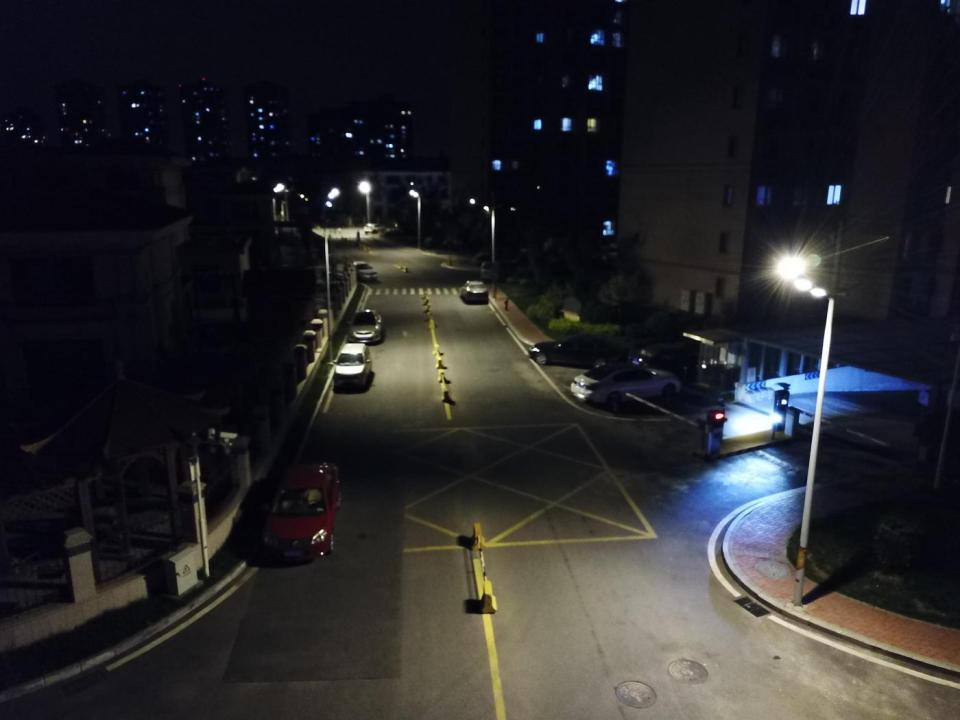car: (260, 462, 343, 562), (570, 363, 682, 405), (528, 333, 629, 370), (332, 342, 373, 389), (634, 342, 698, 366), (350, 309, 383, 342), (461, 280, 488, 302), (351, 260, 378, 280)
